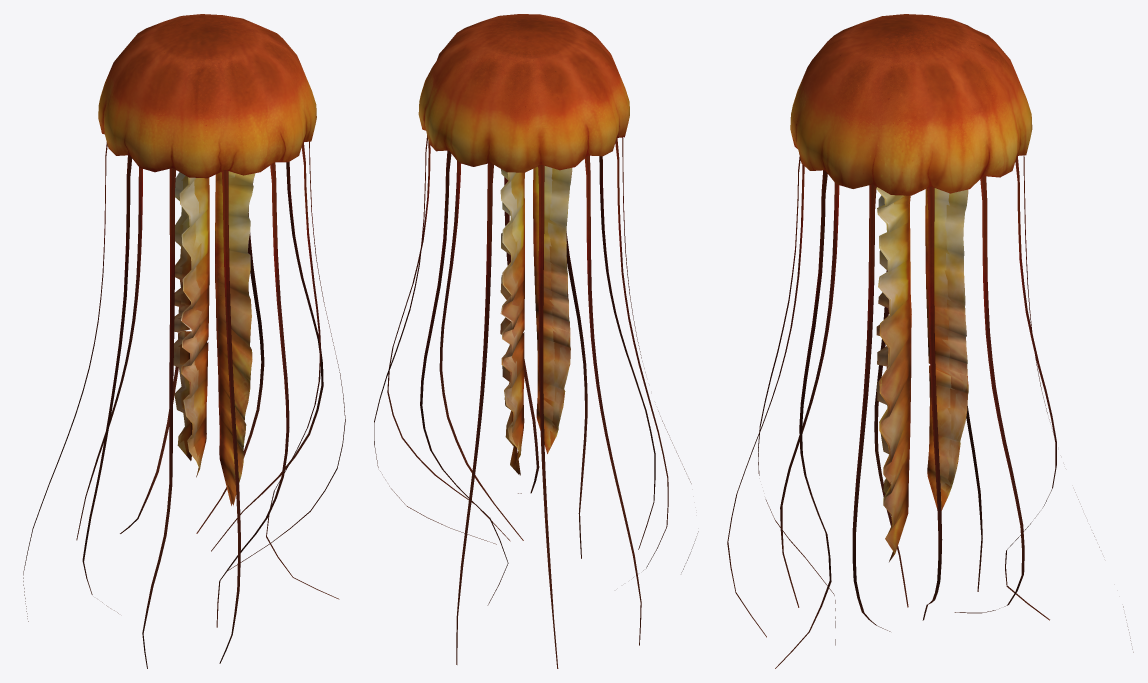
Rendered from octobus.glb.
The picture shows the model from 3 angles, left to right: view 1: azimuth 30°, elevation 25°; view 2: azimuth 150°, elevation 25°; view 3: azimuth 270°, elevation 25°; orthographic projection. The views are drawn at different scales.
Visible parts, largest first — view 1: node_id44; view 2: node_id44; view 3: node_id44.
Boxes of the visible parts, bbox=[...] form: node_id44: bbox=[23, 14, 345, 668]; node_id44: bbox=[374, 14, 698, 668]; node_id44: bbox=[727, 14, 1133, 668].
Size of the model in its own units: 0.1667 by 0.3292 by 0.1886.
1 material, 1 textured.
